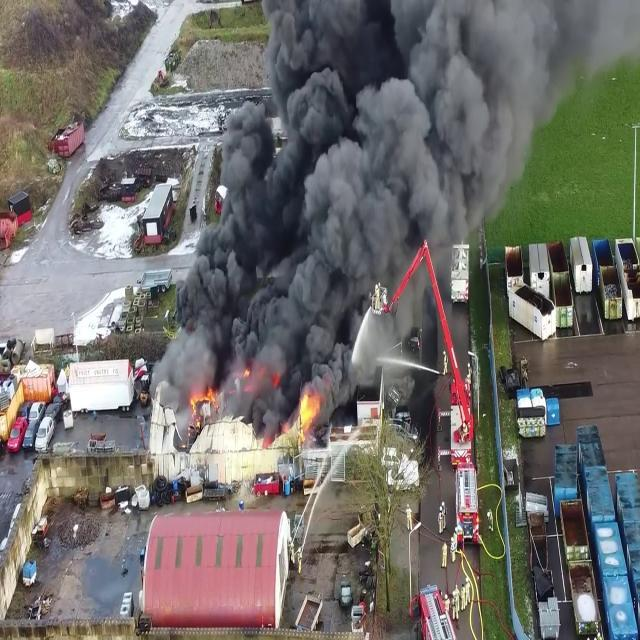Fire: (188, 380, 220, 433), (296, 381, 324, 436)
Smoke: (155, 0, 591, 402)
